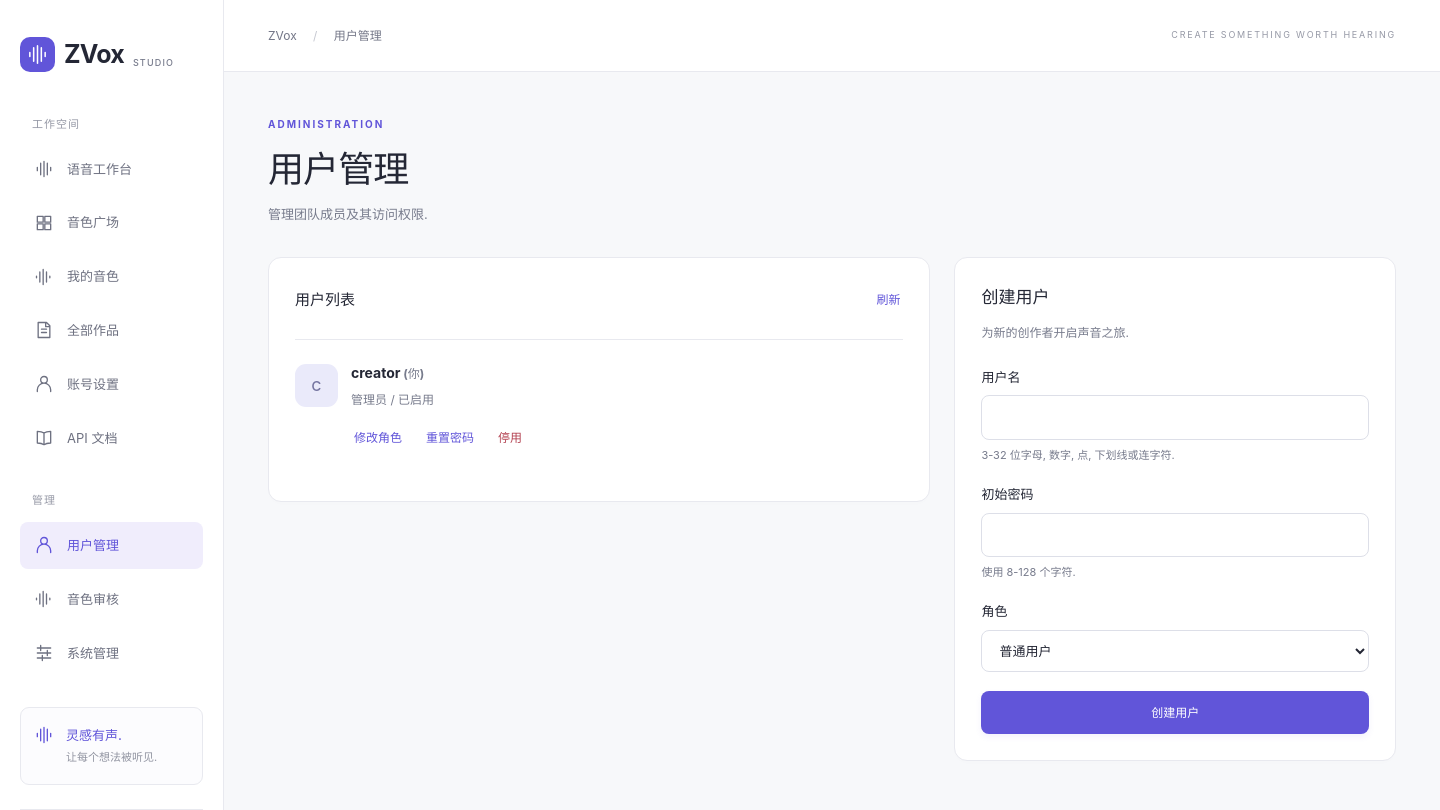
Test: application flows › creates a user and clears the submitted password
Type "new-user" into the field labelled "用户名" at coordinates (1175, 418), box x1=981 y1=395 x2=1369 y2=440
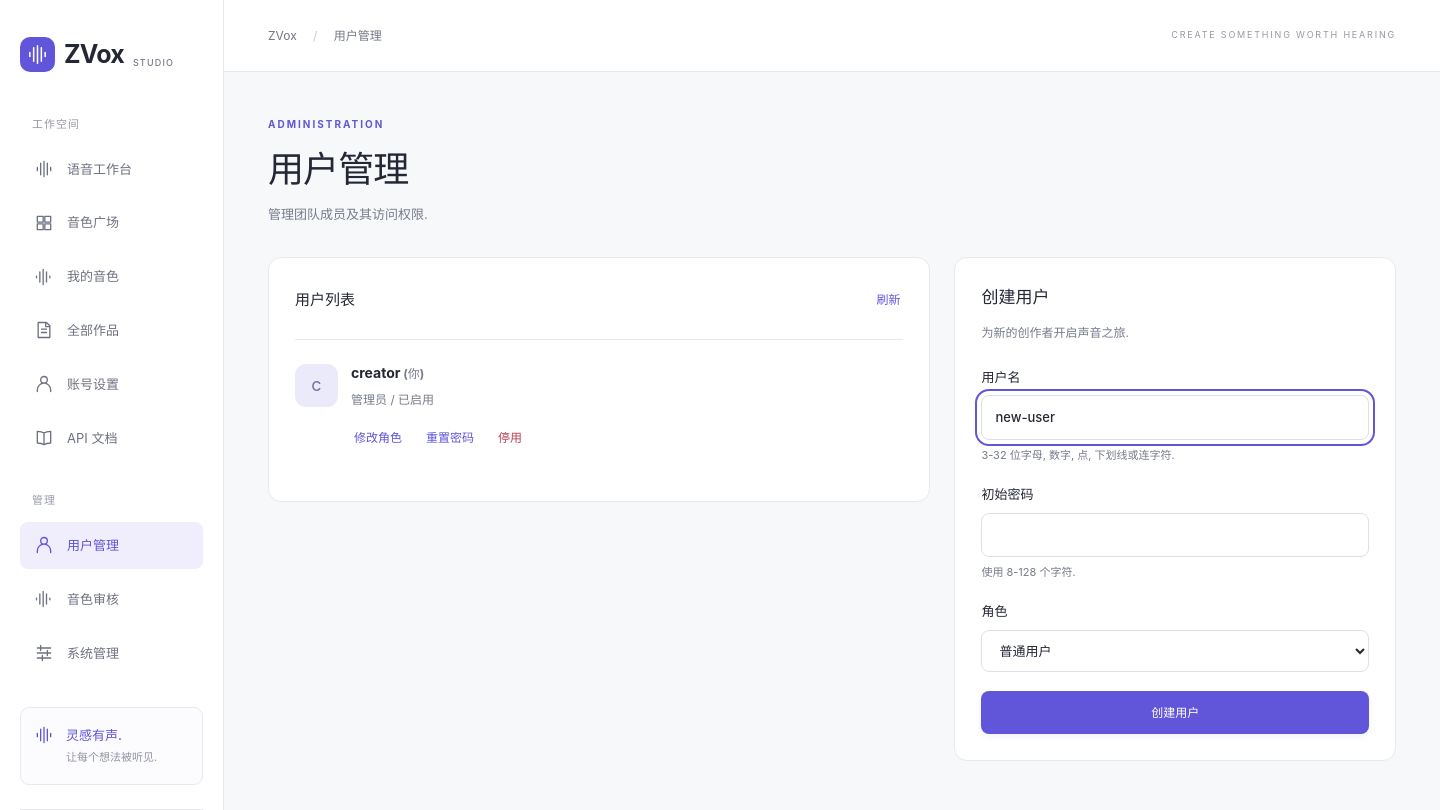
Type "12345678" into the password field labelled "初始密码" at coordinates (1175, 535), box x1=981 y1=512 x2=1369 y2=557
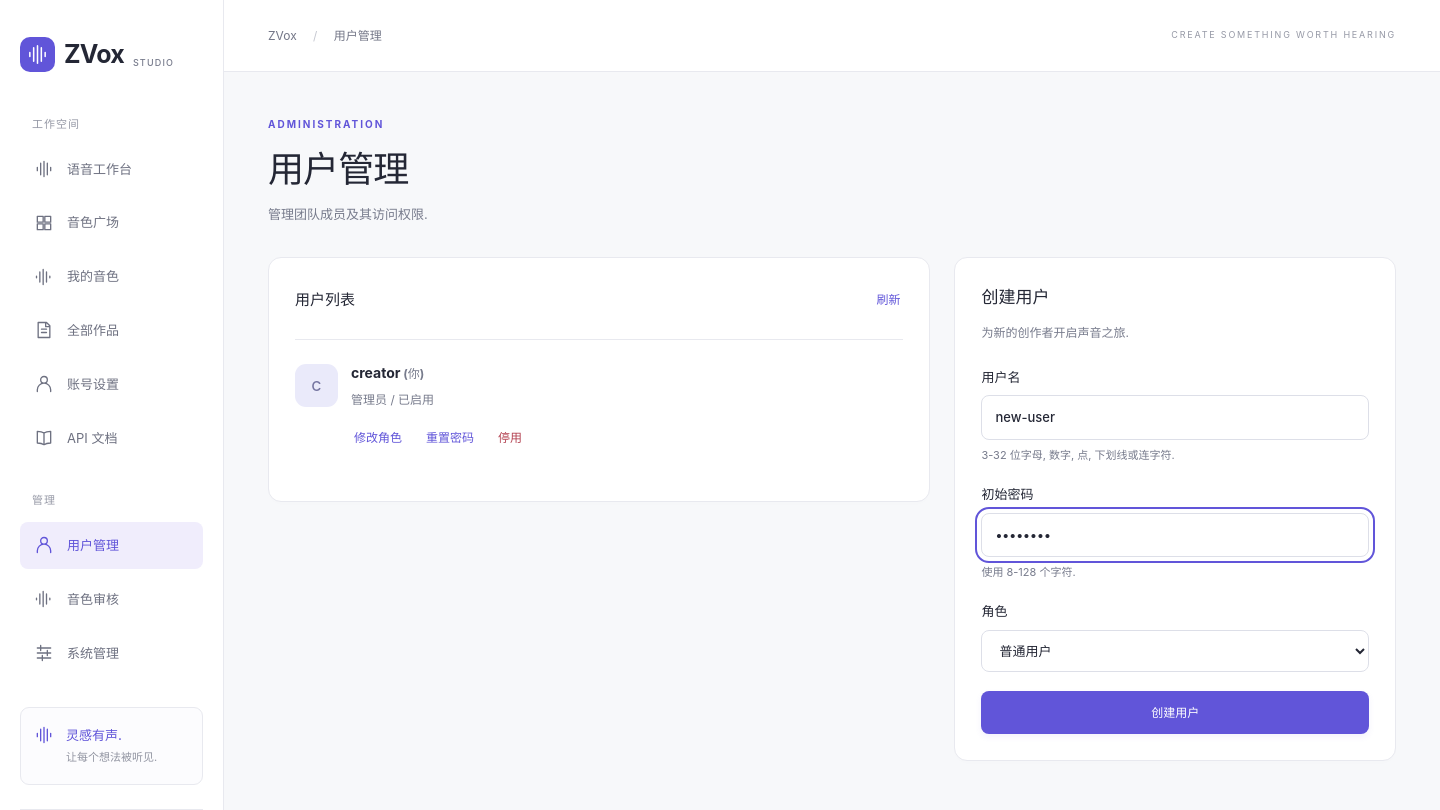
Click the button "创建用户" at coordinates (1175, 712), box x1=981 y1=691 x2=1369 y2=734
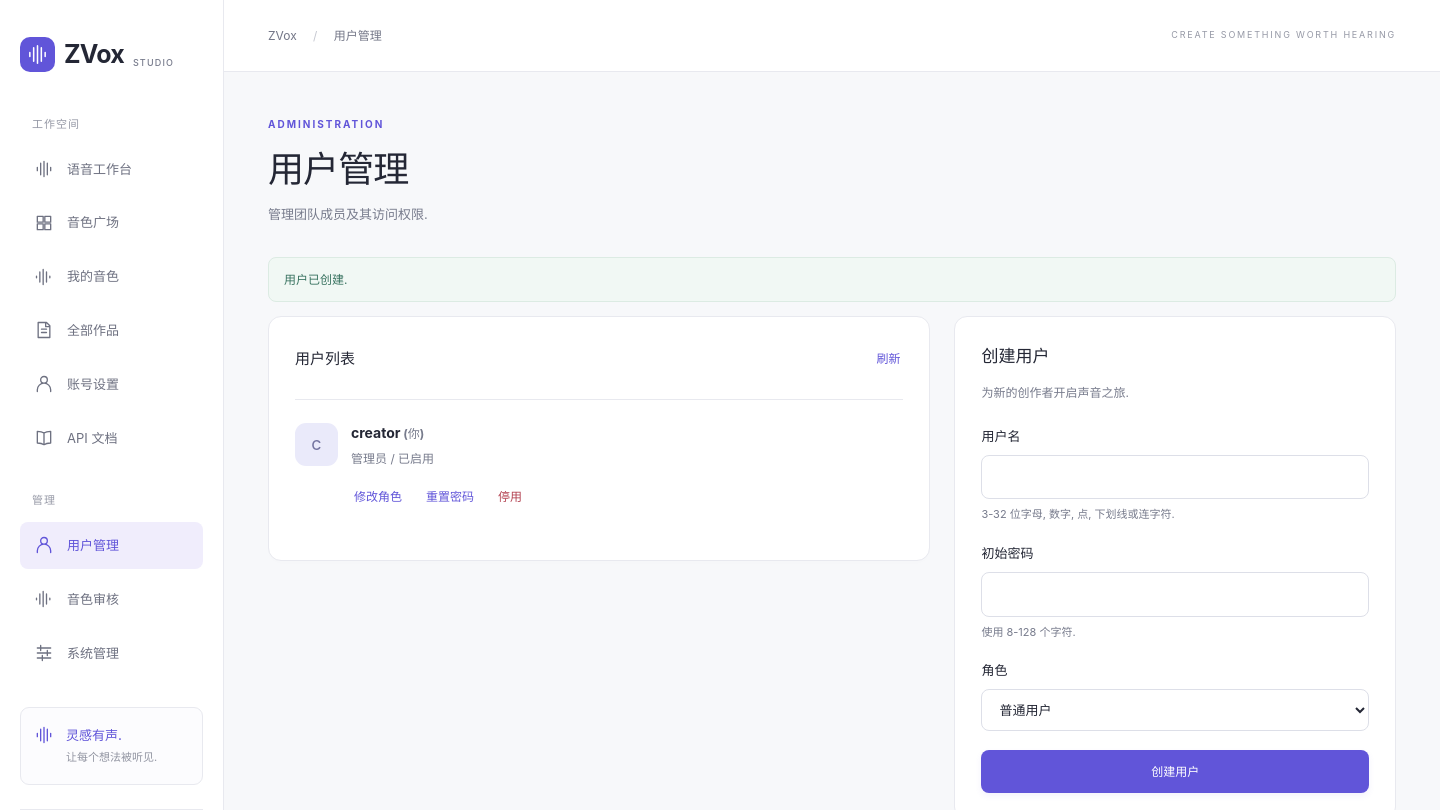
Now the message shows "用户已创建", box x1=284 y1=272 x2=348 y2=287
Now the password field labelled "初始密码" is empty, box x1=981 y1=572 x2=1369 y2=616
